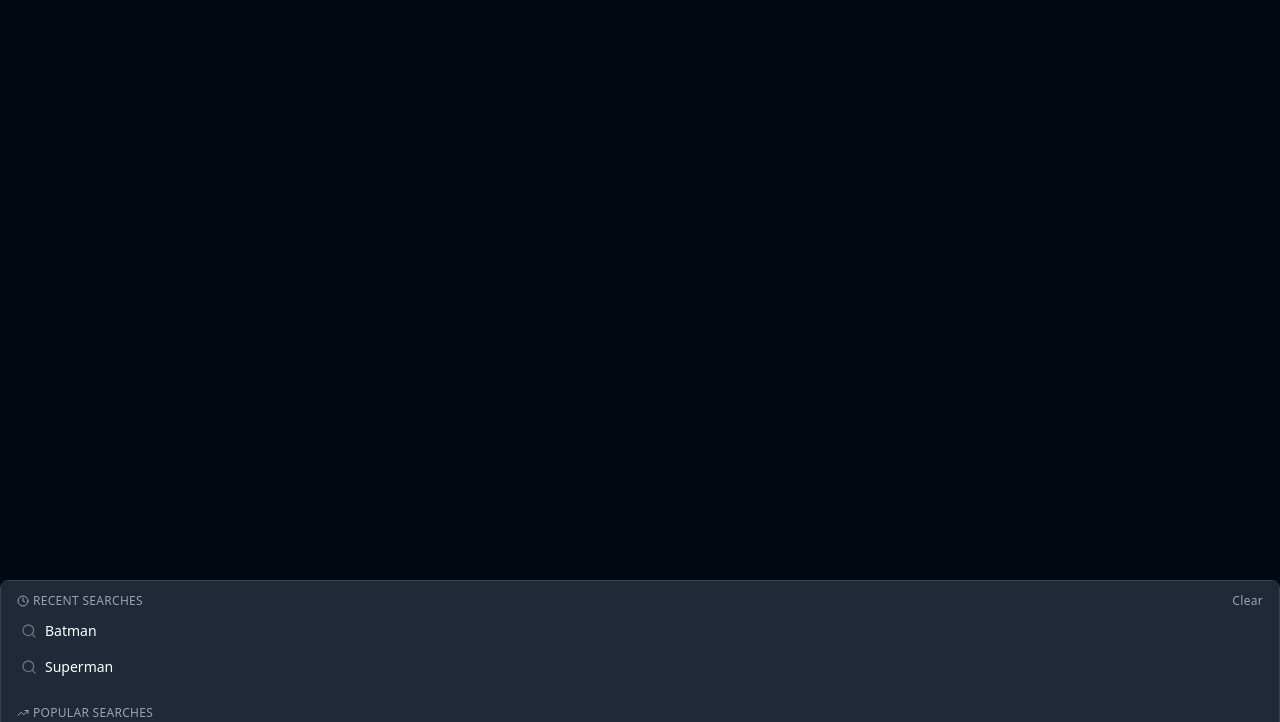
Scenario: SearchSuggestions › Recent Searches › clears recent searches when clear button is clicked
The image size is (1280, 722).
(page scrolled)
Click the button with aria-label "Clear recent searches" at coordinates (1248, 601), box x1=1232 y1=593 x2=1263 y2=609
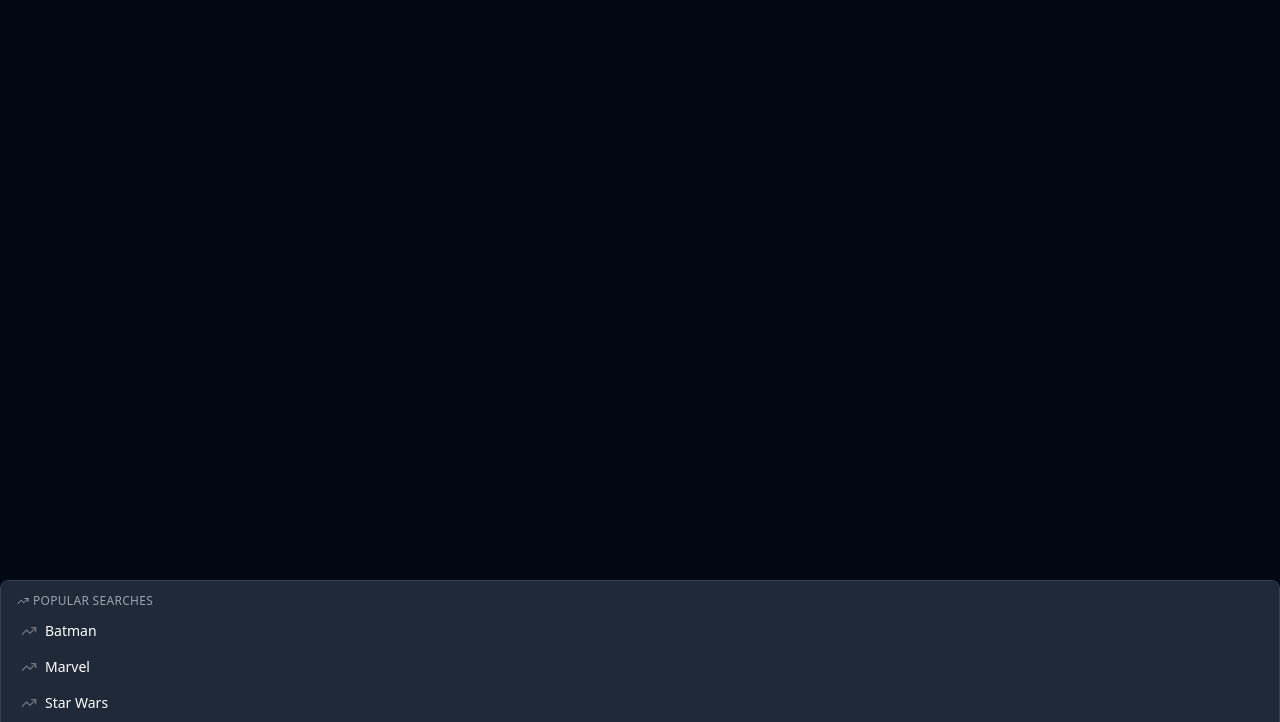
Now the text "Recent Searches" is gone
